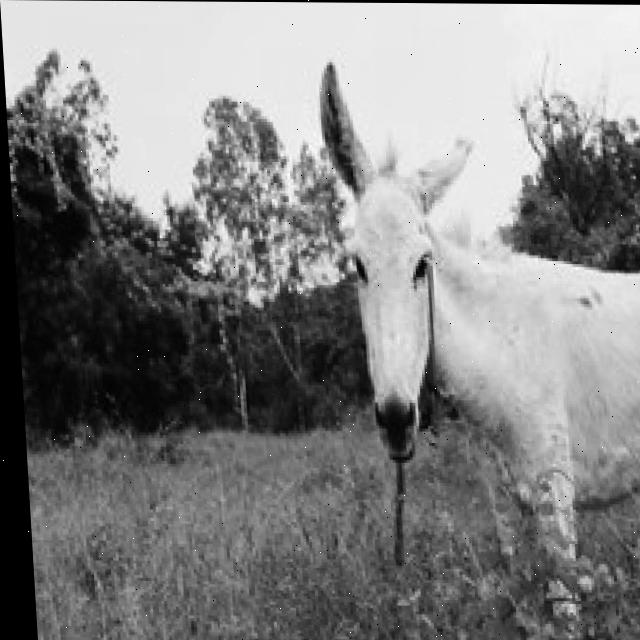Donkey: (312, 56, 640, 640)
